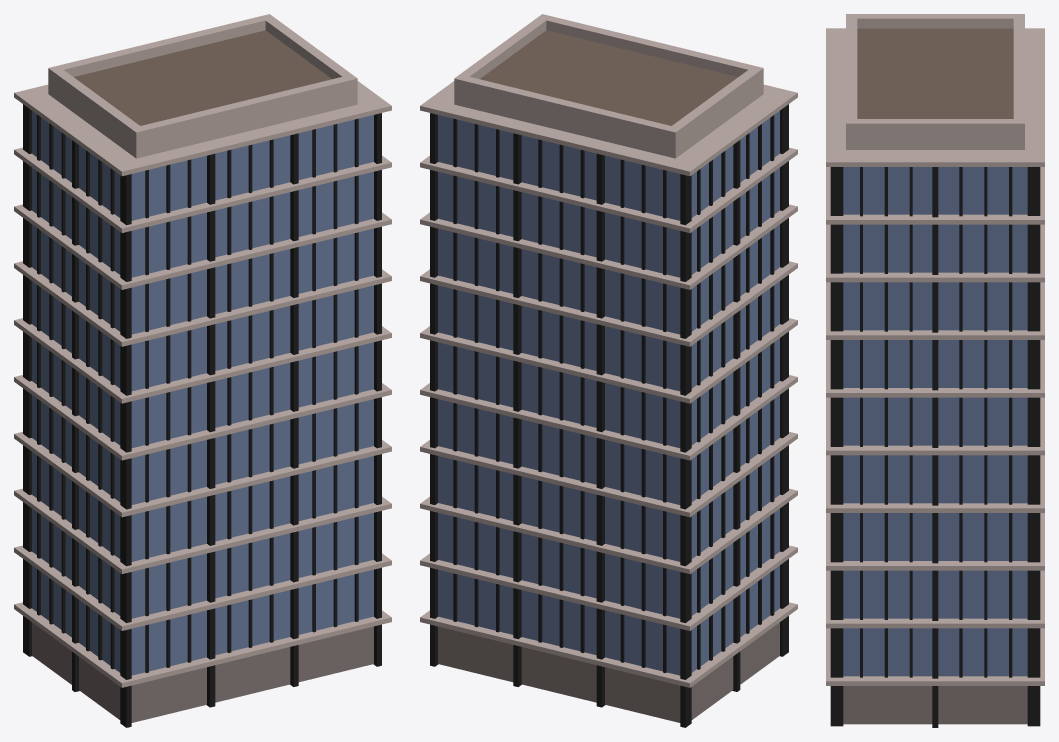
File: LargeBuilding_13.fbx
3 renders of one model, left to right at view 1: azimuth 30°, elevation 25°; view 2: azimuth 150°, elevation 25°; view 3: azimuth 270°, elevation 25°, orthographic.
Parts seen in each view (by area): view 1: LargeBuilding_13; view 2: LargeBuilding_13; view 3: LargeBuilding_13.
Boxes of the visible parts, x1,y1,x2,y2 form: LargeBuilding_13: (14, 14, 391, 727); LargeBuilding_13: (420, 14, 797, 727); LargeBuilding_13: (826, 14, 1044, 727).
Bounding box in the file's own units: 16.13 × 33.46 × 11.15.
